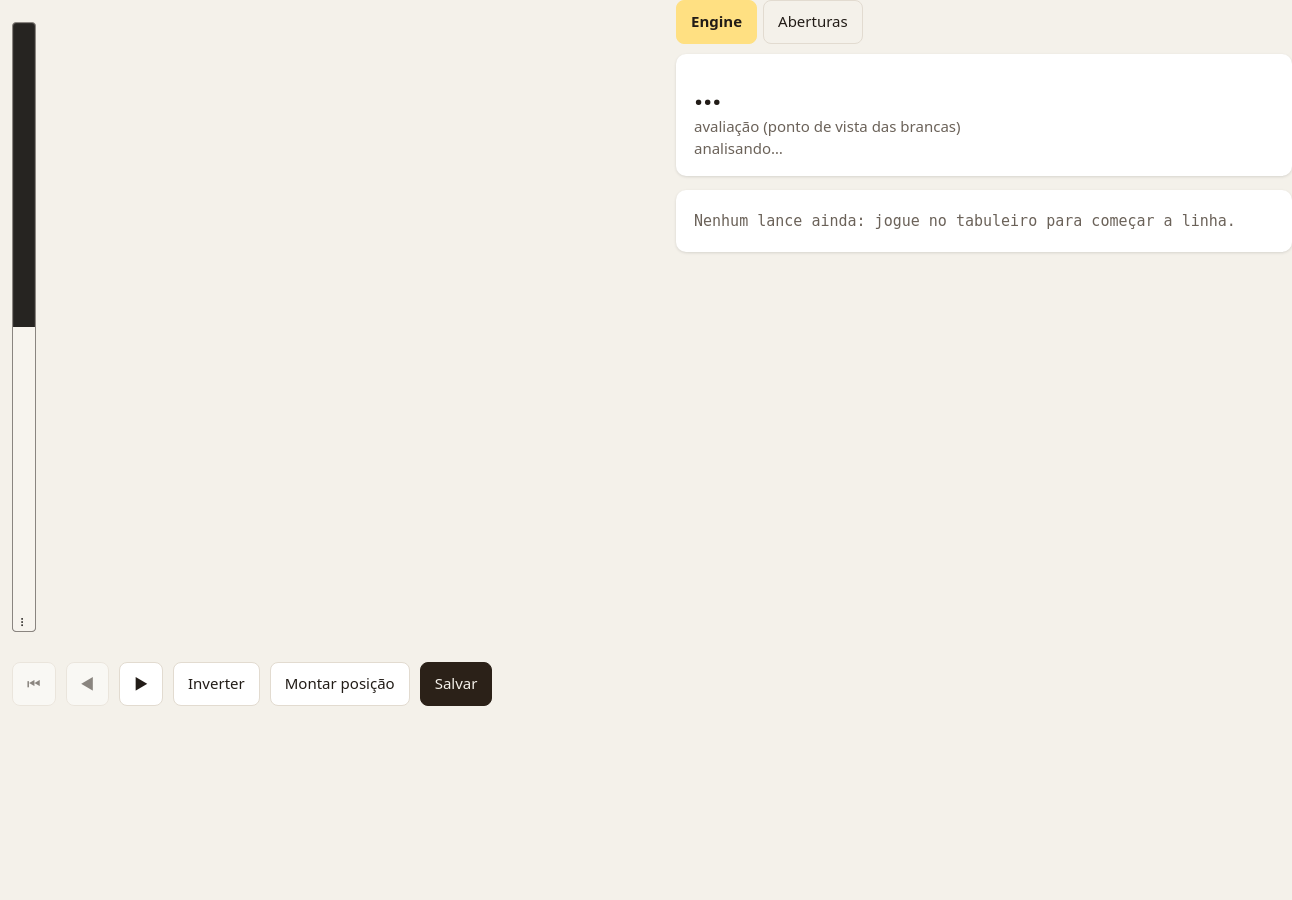
it: montar posição troca a análise pela posição nova
The image size is (1292, 900).
Click the button "Montar posição" at (340, 684), box [270, 662, 410, 706]
(page scrolled)
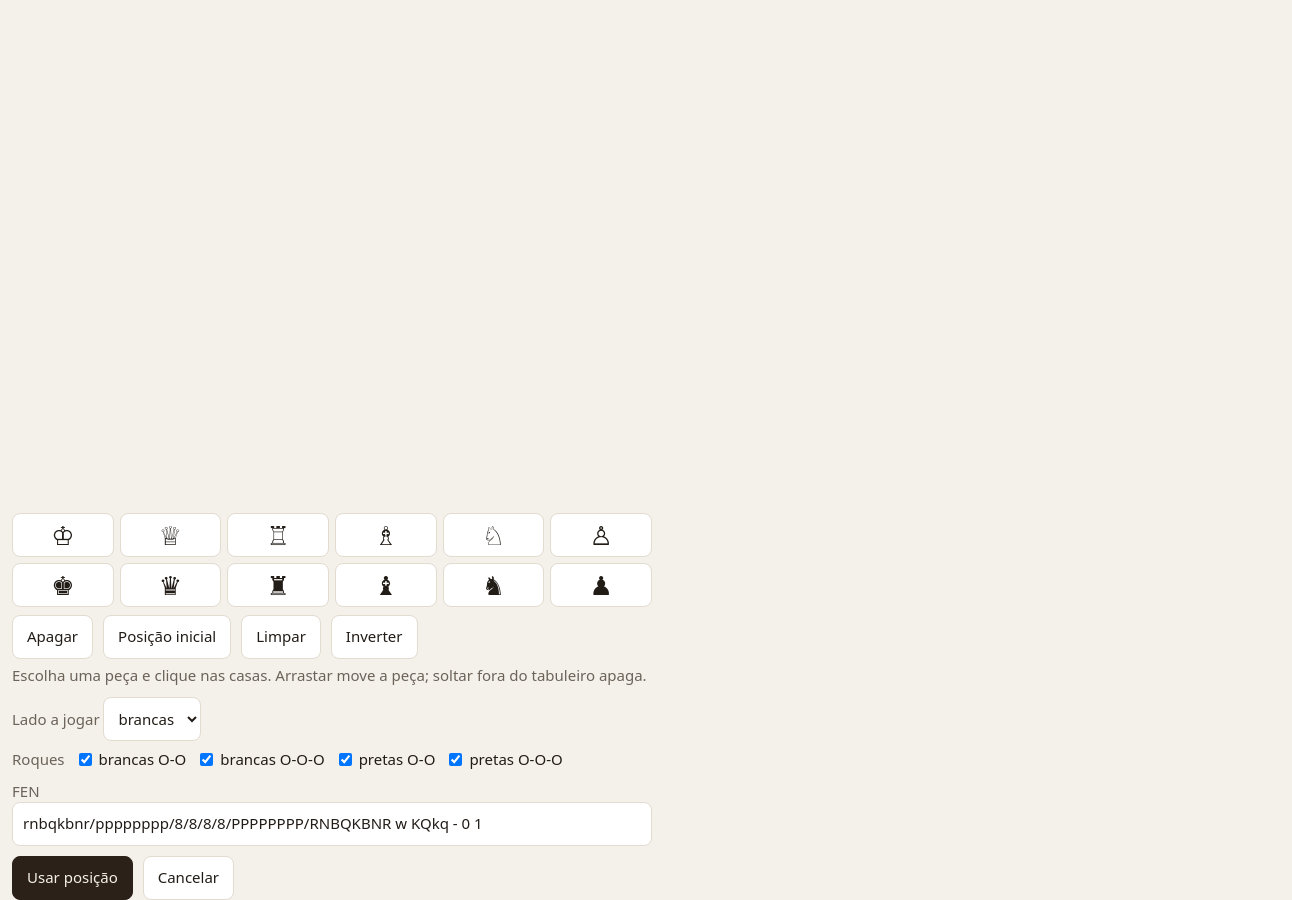
Replace the text in the field named "FEN" with "8/8/8/8/8/5k2/8/7K b - - 0 1" at (332, 824), box [12, 802, 652, 846]
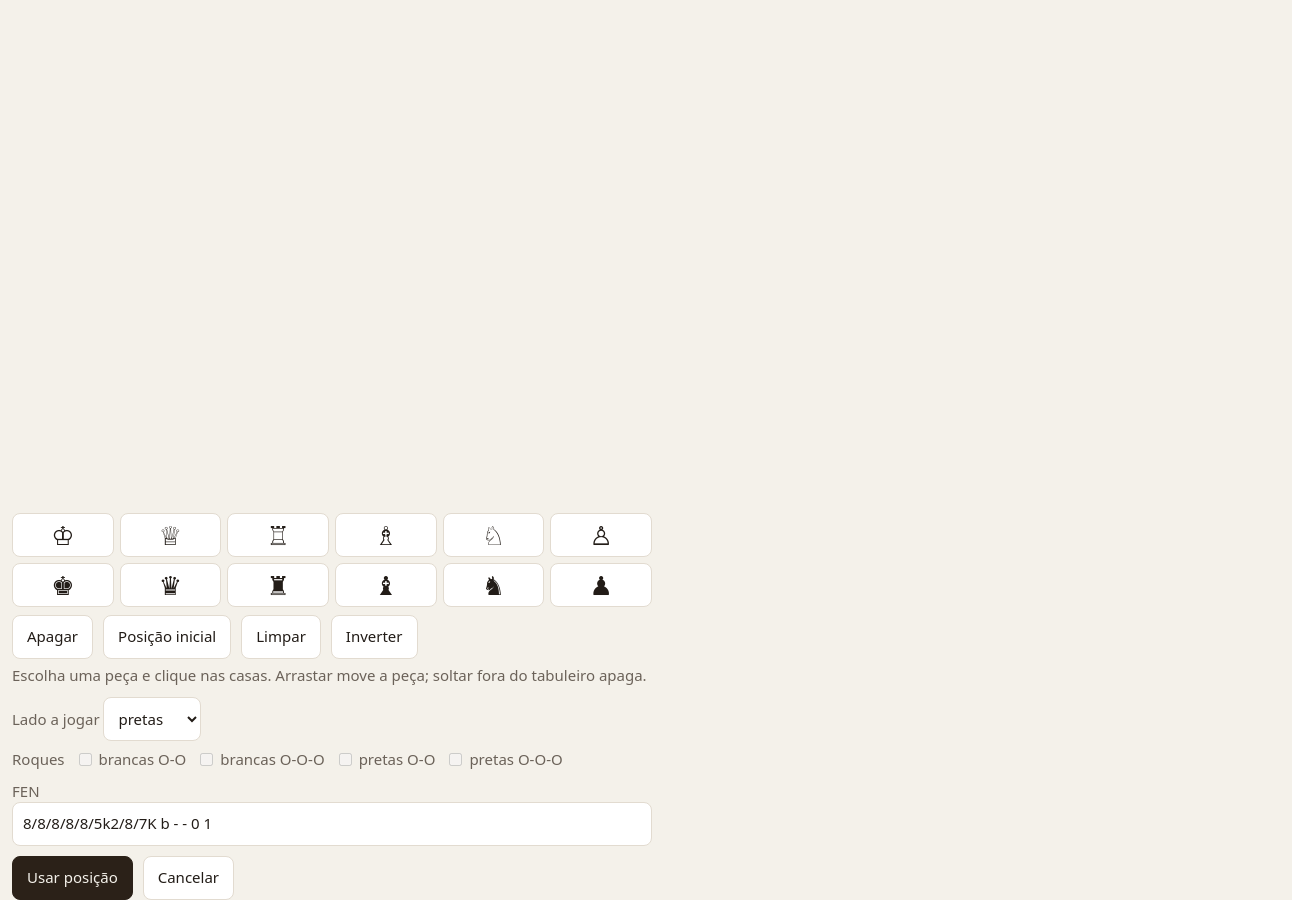
Click the button "Usar posição" at (72, 878), box [12, 856, 133, 899]
(page scrolled)
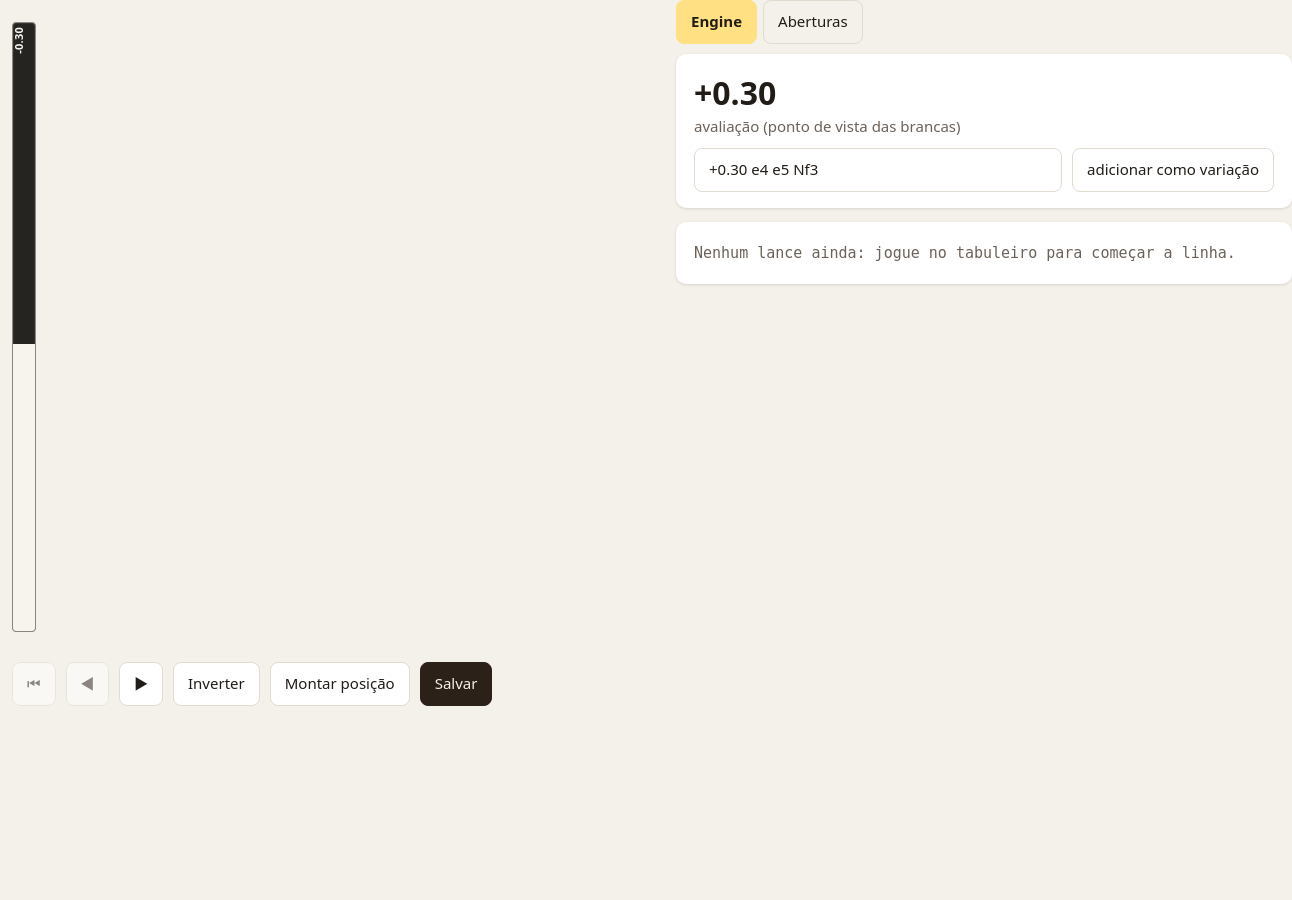
Now the button "Montar posição" is shown, box [270, 662, 410, 706]
